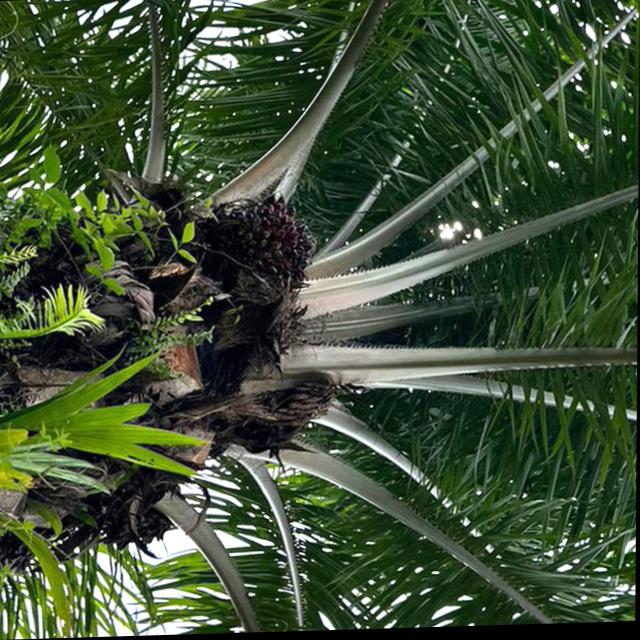ripe: (213, 184, 322, 301)
